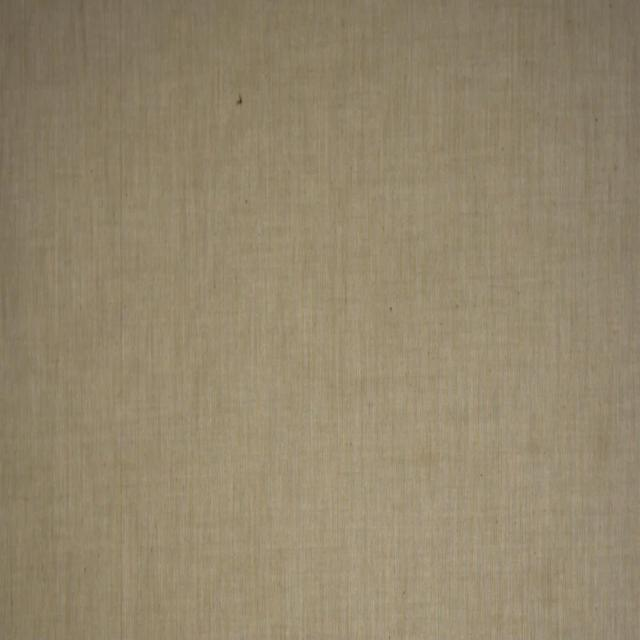dirty: (237, 95, 244, 108)
